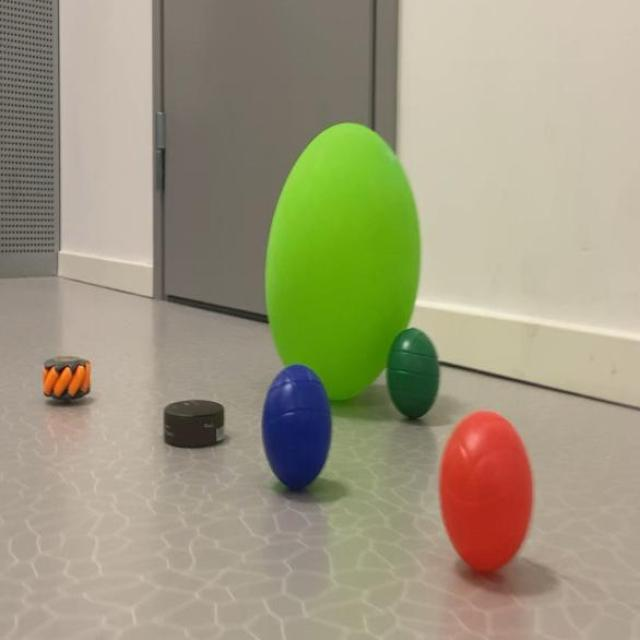blue ball: (257, 377, 335, 492)
green ball: (398, 336, 437, 426)
red ball: (451, 402, 536, 574)
